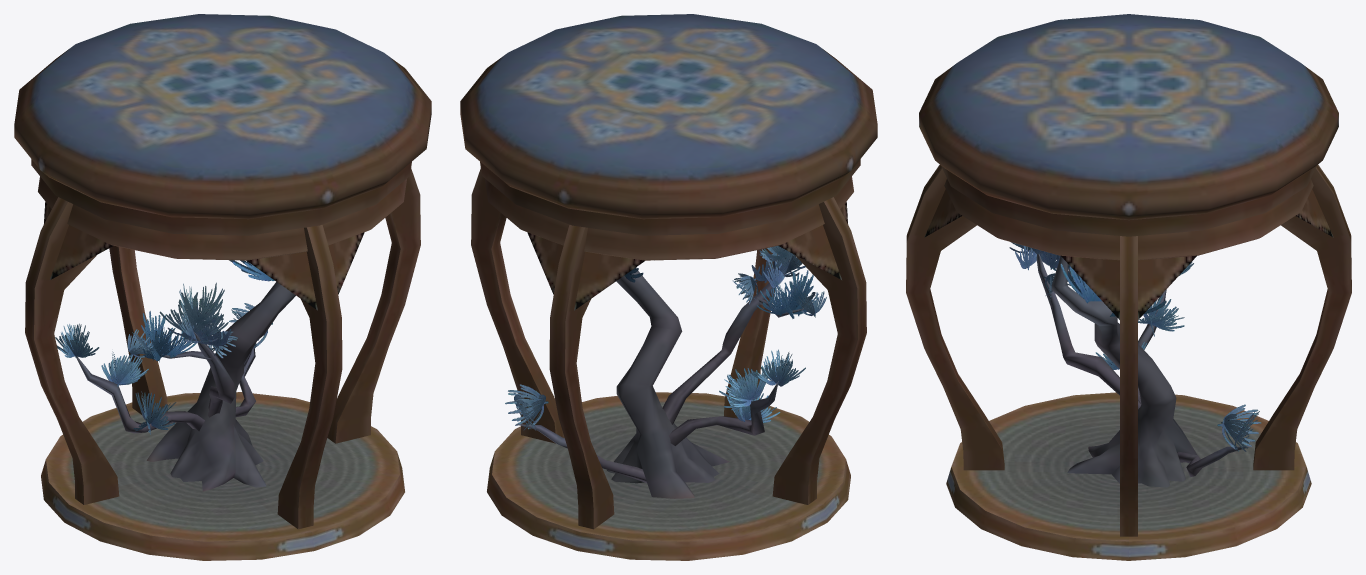
The model's file is furniture-20786.glb.
The picture shows the model from 3 angles, left to right: view 1: azimuth 30°, elevation 25°; view 2: azimuth 150°, elevation 25°; view 3: azimuth 270°, elevation 25°; orthographic projection.
Size of the model in its own units: 0.3115 by 0.3083 by 0.3115.
2 materials, 2 textured.
